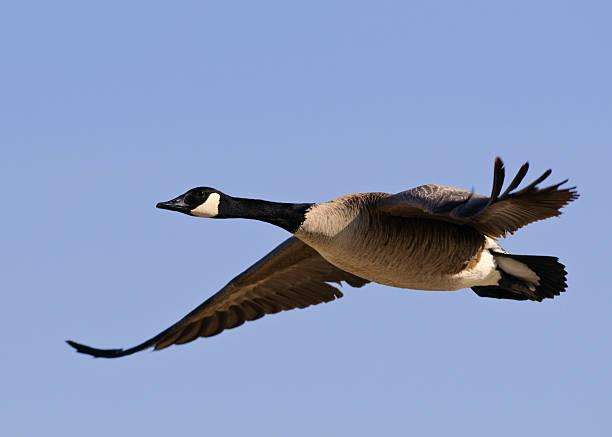Canadian-Goose: (65, 159, 581, 369)
